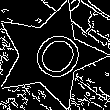O_SW: (16, 22, 83, 88)
